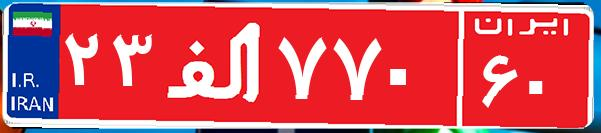0: (385, 28, 445, 110), (525, 38, 570, 115)
2: (57, 26, 110, 107)
3: (110, 28, 158, 105)
6: (475, 38, 525, 113)
7: (273, 28, 330, 110), (330, 28, 385, 110)
الف: (158, 15, 273, 115)
